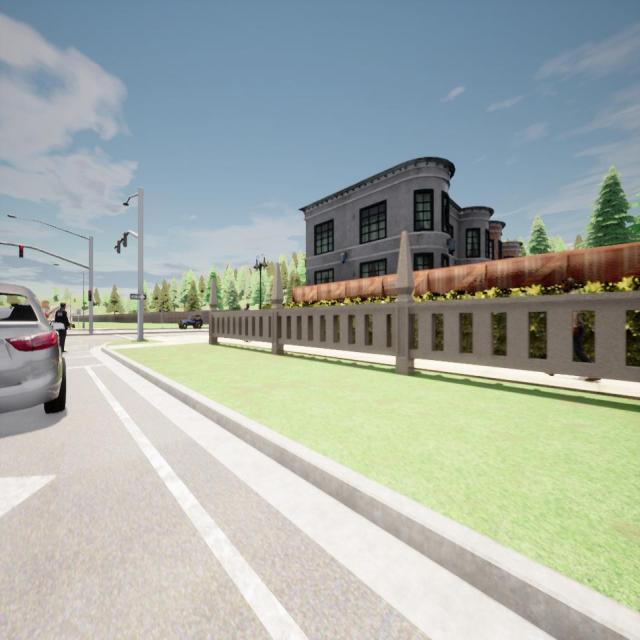Pedestrian: (543, 277, 602, 381), (54, 303, 70, 352), (243, 304, 251, 342)
Traffic_Signs: (130, 294, 146, 300), (77, 309, 80, 314)
Vehicle: (0, 283, 66, 413), (178, 315, 204, 329)
traffic_light: (121, 232, 127, 247), (116, 240, 120, 254), (19, 245, 23, 258), (88, 290, 92, 301)
